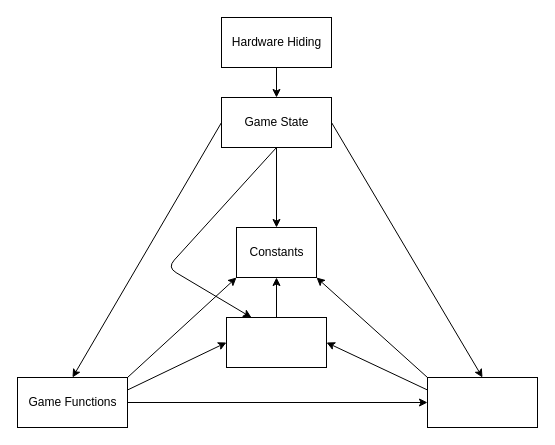
Image size: 555x445. Some labels were removed from this diagram. The shapes that lost their labels are listed below. From the top down, each one's centre as x and y in pixels, then its label:
At (x=276, y=342): "In-Game Assets".
At (x=482, y=402): "Game Objects".
